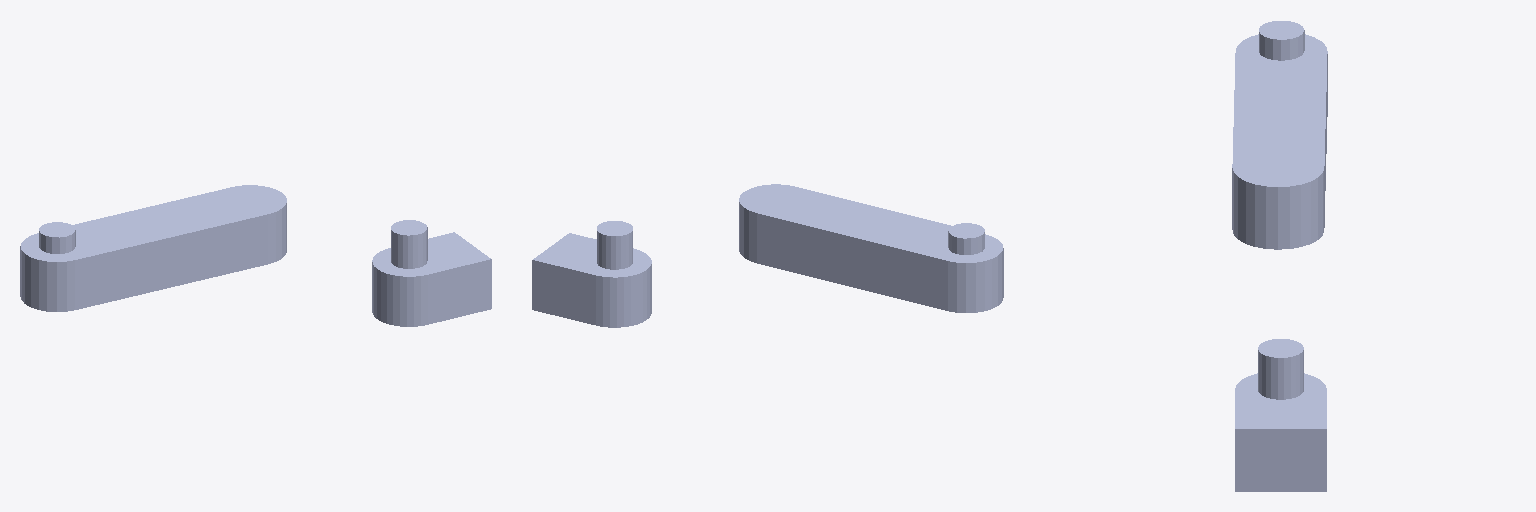
robot.urdf — arm_discription:
<?xml version="1.0" encoding="utf-8"?>
<!-- This URDF was automatically created by SolidWorks to URDF Exporter! Originally created by [author] ([email redacted]) 
     Commit Version: 1.6.0-1-g15f4949  Build Version: 1.6.7594.29634
     For more information, please see http://wiki.ros.org/sw_urdf_exporter -->
<robot
  name="arm_discription">
  <link
    name="base_link">
    <inertial>
      <origin
        xyz="0.539765261309699 0.234264161695191 0.700280661251126"
        rpy="0 0 0" />
      <mass
        value="49.4805902897862" />
      <inertia
        ixx="11.5196552629045"
        ixy="0.0229907903841588"
        ixz="-0.0161473992043305"
        iyy="0.667865153846902"
        iyz="0.0805496666361857"
        izz="11.3301879081771" />
    </inertial>
    <visual>
      <origin
        xyz="0 0 0"
        rpy="0 0 0" />
      <geometry>
        <mesh
          filename="package://arm_discription/meshes/base_link.STL" />
      </geometry>
      <material
        name="">
        <color
          rgba="0.792156862745098 0.819607843137255 0.933333333333333 1" />
      </material>
    </visual>
    <collision>
      <origin
        xyz="0 0 0"
        rpy="0 0 0" />
      <geometry>
        <mesh
          filename="package://arm_discription/meshes/base_link.STL" />
      </geometry>
    </collision>
  </link>
  <link
    name="link1">
    <inertial>
      <origin
        xyz="0.0546950645196006 0.0857393508051498 0"
        rpy="0 0 0" />
      <mass
        value="9.14159265358979" />
      <inertia
        ixx="0.0539212362194922"
        ixy="0.0053696754025749"
        ixz="-2.33204724848265E-18"
        iyy="0.0854151878954083"
        iyz="2.66783469421037E-18"
        izz="0.0865737039596919" />
    </inertial>
    <visual>
      <origin
        xyz="0 0 0"
        rpy="0 0 0" />
      <geometry>
        <mesh
          filename="package://arm_discription/meshes/link1.STL" />
      </geometry>
      <material
        name="">
        <color
          rgba="0.792156862745098 0.819607843137255 0.933333333333333 1" />
      </material>
    </visual>
    <collision>
      <origin
        xyz="0 0 0"
        rpy="0 0 0" />
      <geometry>
        <mesh
          filename="package://arm_discription/meshes/link1.STL" />
      </geometry>
    </collision>
  </link>
  <joint
    name="joint1"
    type="prismatic">
    <origin
      xyz="0.23491 -0.71189 0.25792"
      rpy="1.5708 0 0" />
    <parent
      link="base_link" />
    <child
      link="link1" />
    <axis
      xyz="0 1 0" />
    <limit
      lower="0"
      upper="0"
      effort="0"
      velocity="0" />
  </joint>
  <link
    name="link2">
    <inertial>
      <origin
        xyz="-0.260309776772944 0.0780929330318832 1.11022302462516E-16"
        rpy="0 0 0" />
      <mass
        value="38.0899693899575" />
      <inertia
        ixx="0.405219334158239"
        ixy="0.0184203621235601"
        ixz="-4.64038529823796E-17"
        iyy="2.21115735519494"
        iyz="-5.23127548224256E-18"
        izz="1.97160859597414" />
    </inertial>
    <visual>
      <origin
        xyz="0 0 0"
        rpy="0 0 0" />
      <geometry>
        <mesh
          filename="package://arm_discription/meshes/link2.STL" />
      </geometry>
      <material
        name="">
        <color
          rgba="0.792156862745098 0.819607843137255 0.933333333333333 1" />
      </material>
    </visual>
    <collision>
      <origin
        xyz="0 0 0"
        rpy="0 0 0" />
      <geometry>
        <mesh
          filename="package://arm_discription/meshes/link2.STL" />
      </geometry>
    </collision>
  </link>
  <joint
    name="joint2"
    type="continuous">
    <origin
      xyz="0 0.15 0"
      rpy="0 0.011092 0" />
    <parent
      link="link1" />
    <child
      link="link2" />
    <axis
      xyz="0 1 0" />
  </joint>
  <link
    name="link3">
    <inertial>
      <origin
        xyz="-0.315834860391571 0.0776391433985952 7.7715611723761E-16"
        rpy="0 0 0" />
      <mass
        value="22.319689898686" />
      <inertia
        ixx="0.11682923728881"
        ixy="0.00495773595529124"
        ixz="2.72633478293205E-15"
        iyy="1.1262466603104"
        iyz="-1.09978757871498E-17"
        izz="1.10000482654941" />
    </inertial>
    <visual>
      <origin
        xyz="0 0 0"
        rpy="0 0 0" />
      <geometry>
        <mesh
          filename="package://arm_discription/meshes/link3.STL" />
      </geometry>
      <material
        name="">
        <color
          rgba="0.792156862745098 0.819607843137255 0.933333333333333 1" />
      </material>
    </visual>
    <collision>
      <origin
        xyz="0 0 0"
        rpy="0 0 0" />
      <geometry>
        <mesh
          filename="package://arm_discription/meshes/link3.STL" />
      </geometry>
    </collision>
  </link>
  <joint
    name="joint3"
    type="continuous">
    <origin
      xyz="-0.5 0.15 0"
      rpy="0 -0.022487 0" />
    <parent
      link="link2" />
    <child
      link="link3" />
    <axis
      xyz="0 1 0" />
  </joint>
  <link
    name="gripper">
    <inertial>
      <origin
        xyz="0.0054114904786009 0.0918021436091223 0.0113805192509809"
        rpy="0 0 0" />
      <mass
        value="4.49087385212341" />
      <inertia
        ixx="0.0202967545713154"
        ixy="-0.000199226938271994"
        ixz="-3.39406175284593E-05"
        iyy="0.0287483587037319"
        iyz="-0.000418979949292022"
        izz="0.0202415154053278" />
    </inertial>
    <visual>
      <origin
        xyz="0 0 0"
        rpy="0 0 0" />
      <geometry>
        <mesh
          filename="package://arm_discription/meshes/gripper.STL" />
      </geometry>
      <material
        name="">
        <color
          rgba="0.792156862745098 0.819607843137255 0.933333333333333 1" />
      </material>
    </visual>
    <collision>
      <origin
        xyz="0 0 0"
        rpy="0 0 0" />
      <geometry>
        <mesh
          filename="package://arm_discription/meshes/gripper.STL" />
      </geometry>
    </collision>
  </link>
  <joint
    name="joint_gripper"
    type="continuous">
    <origin
      xyz="-0.6 0.15 0"
      rpy="0 0.011395 0" />
    <parent
      link="link3" />
    <child
      link="gripper" />
    <axis
      xyz="0 1 0" />
  </joint>
</robot>

--- What the picture shows (computed from the rendered views, not written in the file) ---
The picture shows the robot from 3 angles, left to right: view 1: azimuth 30°, elevation 25°; view 2: azimuth 150°, elevation 25°; view 3: azimuth 270°, elevation 25°; orthographic projection.
Model arm_discription with 5 links and 4 joints (3 continuous, 1 prismatic), rooted at base_link, posed all joints at 0.
Visible links, largest first — view 1: link3, link1; view 2: link3, link1; view 3: link3, link1.
Link boxes in pixels (x1=…): link3: x1=20, y1=185, x2=286, y2=311; link1: x1=372, y1=220, x2=491, y2=326; link3: x1=739, y1=184, x2=1003, y2=312; link1: x1=532, y1=221, x2=651, y2=327; link3: x1=1232, y1=21, x2=1327, y2=249; link1: x1=1235, y1=339, x2=1326, y2=491.
Size in the robot's own frame: 1.4 by 0.2068 by 0.5 metres.
Meshes: 5 distinct files referenced, 2 mesh visuals loaded (2 binary STL); not drawn: 3 (reference not matched to a file when rendering).